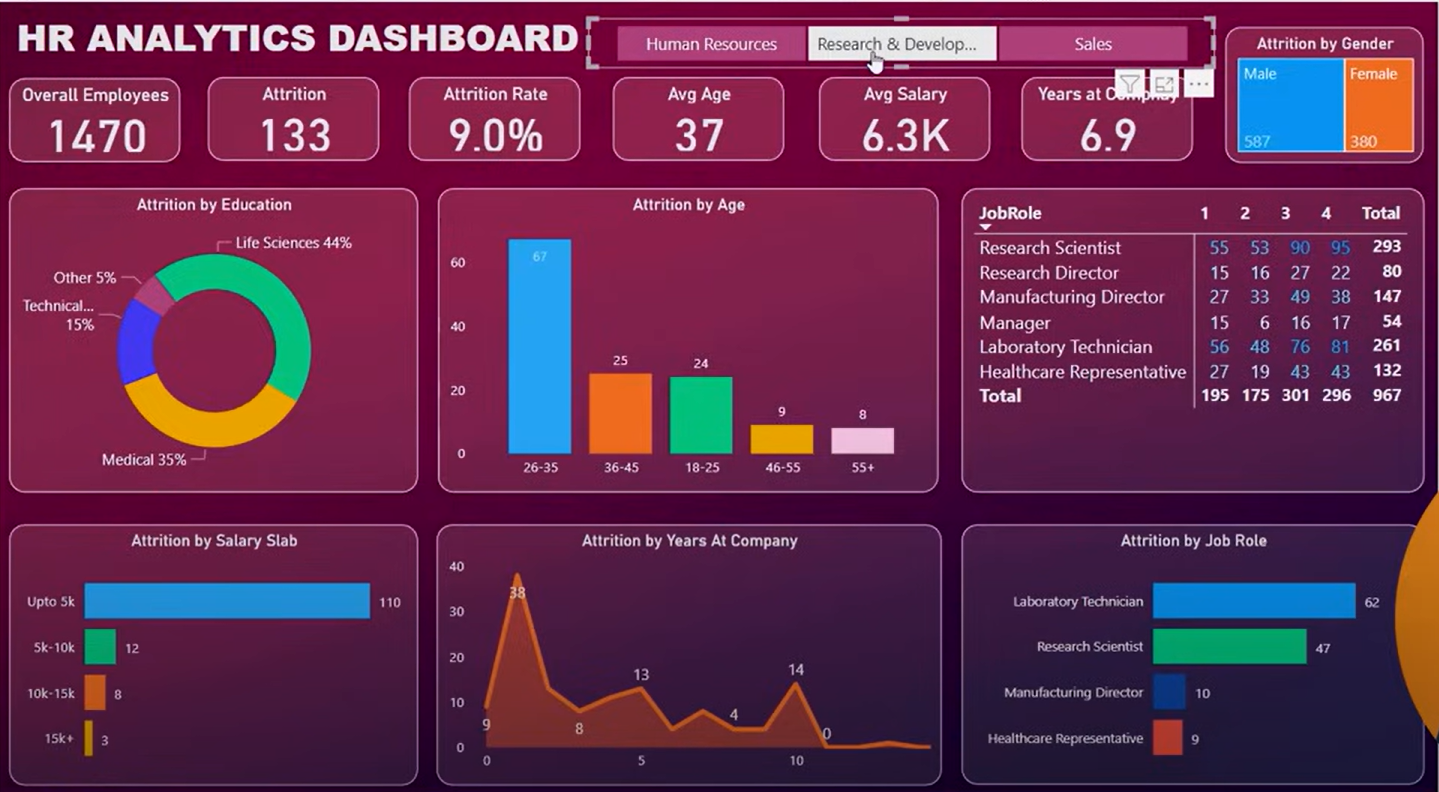

What the dashboard file says about the page in this screenshot:
{"tool":"powerbi","page":{"name":"Page 1","canvas":[1280,720],"ordinal":0},"visuals":[{"type":"card","title":"Ttl. Employee","fields":{"Values":["CountNonNull(HR_Analytics.EmpID)"]},"box":[16.7,15.2,122.7,89.4],"z":0},{"type":"card","title":"Ttl. Attrition ","fields":{"Values":["Sum(HR_Analytics.AttritionCount)"]},"box":[147,15.2,125.8,89.4],"z":1000},{"type":"card","title":"Ttl. Attrition ","fields":{"Values":["HR_Analytics.AttritionRate"]},"box":[280.3,15.2,116.7,89.4],"z":2000},{"type":"card","title":"Avg. Age ","fields":{"Values":["Avg(HR_Analytics.Age)"]},"box":[404.5,15.2,107.6,89.4],"z":3000},{"type":"card","title":"Avg. Salary ","fields":{"Values":["Avg(HR_Analytics.MonthlyIncome)"]},"box":[653,15.2,119.7,89.4],"z":4000},{"type":"card","title":"Avg. Years at Company","fields":{"Values":["Avg(HR_Analytics.YearsAtCompany)"]},"box":[518.2,15.2,128.8,89.4],"z":5000},{"type":"pieChart","title":"Attrition by Eduction ","fields":{"Y":["Sum(HR_Analytics.AttritionCount)"],"Category":["HR_Analytics.EducationField"]},"box":[18.2,116.7,500,300],"z":6000},{"type":"lineChart","title":"Attrition by Age Group","fields":{"Y":["Sum(HR_Analytics.AttritionCount)"],"Category":["HR_Analytics.AgeGroup"]},"box":[16.7,430.3,500,265.2],"z":7000},{"type":"pivotTable","fields":{"Rows":["HR_Analytics.JobRole"],"Columns":["HR_Analytics.JobSatisfaction"],"Values":["Sum(HR_Analytics.AttritionCount)"]},"box":[527.3,116.7,392.4,300],"z":8000},{"type":"barChart","title":"Attrition By Job Roles","fields":{"Category":["HR_Analytics.JobRole"],"Y":["Sum(HR_Analytics.AttritionCount)"]},"box":[930.4,116.9,334.3,299.7],"z":8001},{"type":"areaChart","title":"Attrition by Age Group","fields":{"Category":["HR_Analytics.YearsAtCompany"],"Y":["Sum(HR_Analytics.AttritionCount)"]},"box":[526.9,429.8,464.4,265.1],"z":8002},{"type":"treemap","title":"Attrition by Age Group","fields":{"Group":["HR_Analytics.Gender"],"Values":["Sum(HR_Analytics.AttritionCount)"]},"box":[1002.8,429.8,261.8,265.1],"z":8003},{"type":"slicer","fields":{"Values":["HR_Analytics.Department"]},"box":[783.8,14.8,480.8,88.9],"z":8004}]}

Visuals, with their boxes in screenshot pixels (x1, y1, x2, y2), scaled from the page's 1280x720 canvas onto the 1439x792 screenshot:
"Ttl. Employee" card: box(19, 17, 157, 115)
"Ttl. Attrition " card: box(165, 17, 307, 115)
"Ttl. Attrition " card: box(315, 17, 446, 115)
"Avg. Age " card: box(455, 17, 576, 115)
"Avg. Salary " card: box(734, 17, 869, 115)
"Avg. Years at Company" card: box(583, 17, 727, 115)
"Attrition by Eduction " pieChart: box(20, 128, 583, 458)
"Attrition by Age Group" lineChart: box(19, 473, 581, 765)
pivotTable - HR_Analytics.JobRole x HR_Analytics.JobSatisfaction: box(593, 128, 1034, 458)
"Attrition By Job Roles" barChart: box(1046, 129, 1422, 458)
"Attrition by Age Group" areaChart: box(592, 473, 1114, 764)
"Attrition by Age Group" treemap: box(1127, 473, 1422, 764)
slicer - HR_Analytics.Department: box(881, 16, 1422, 114)
